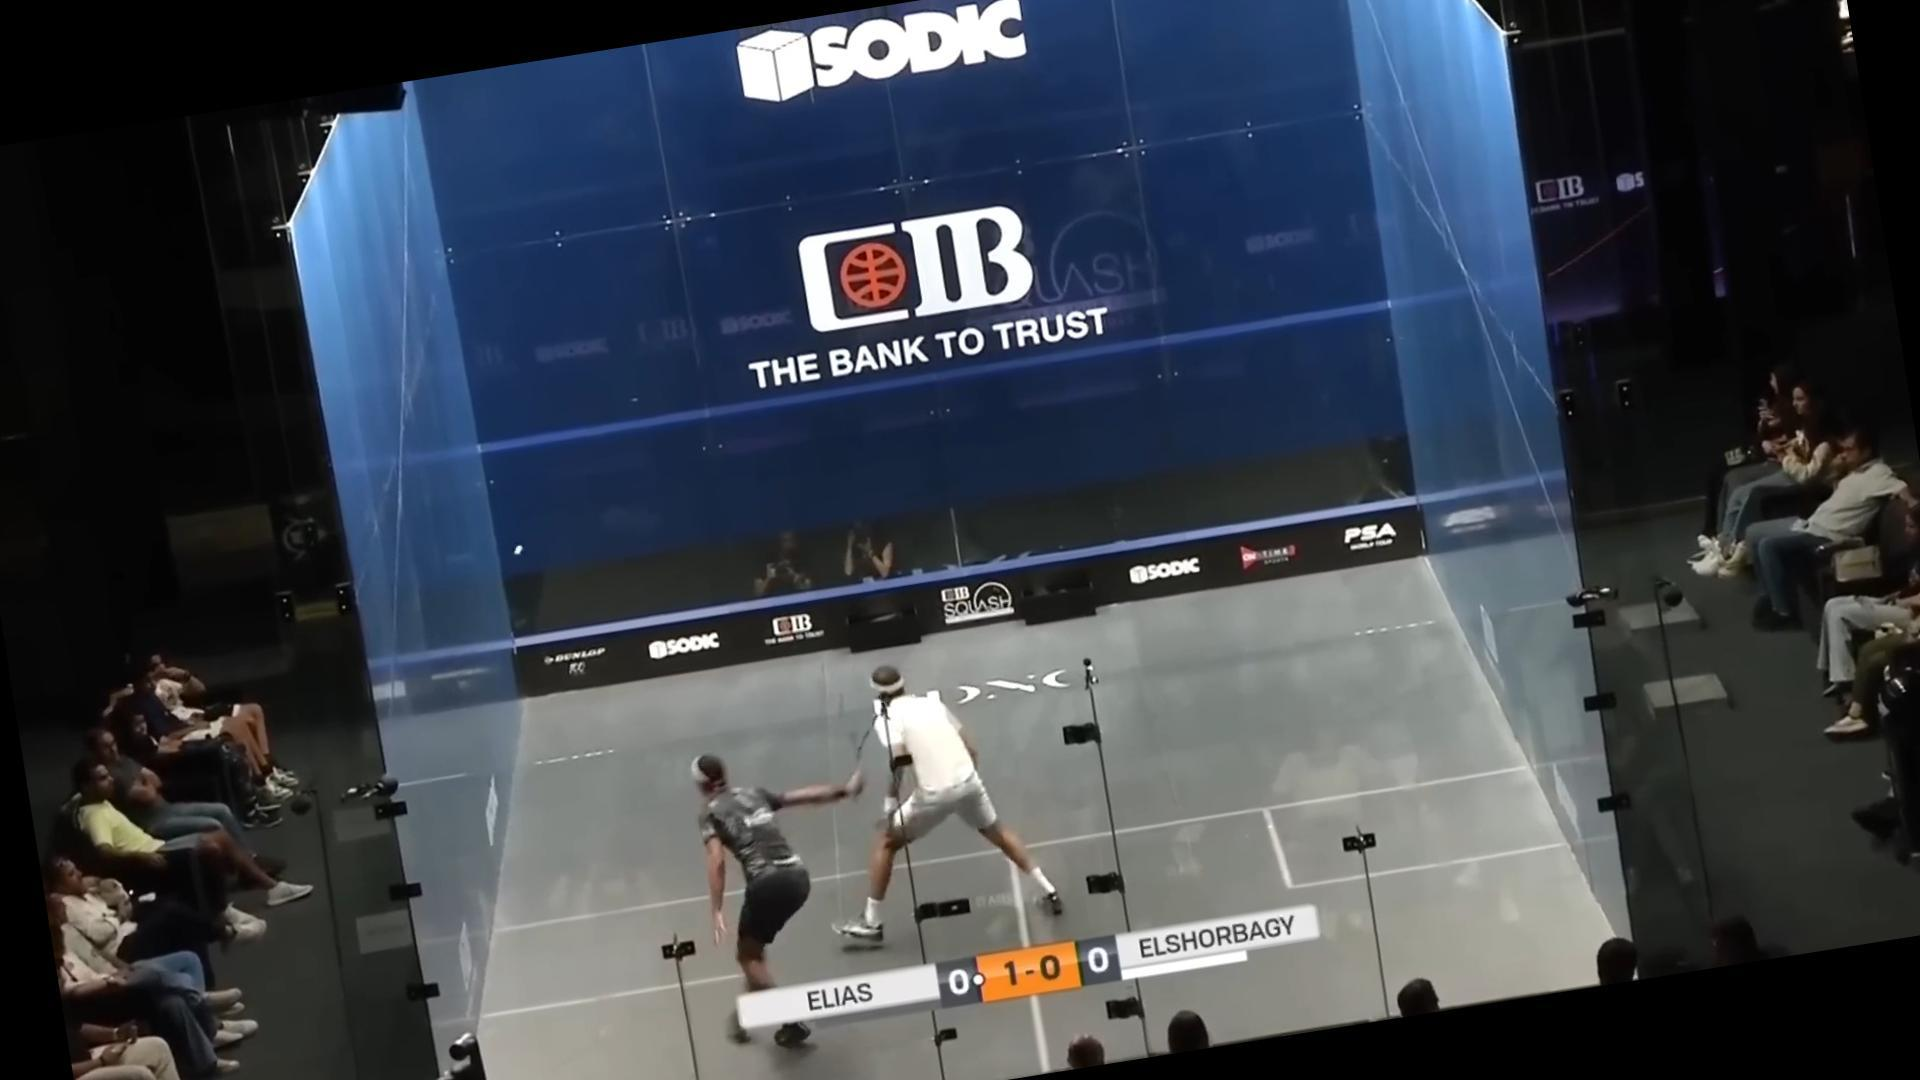Squash-Ball: (498, 534, 538, 568)
